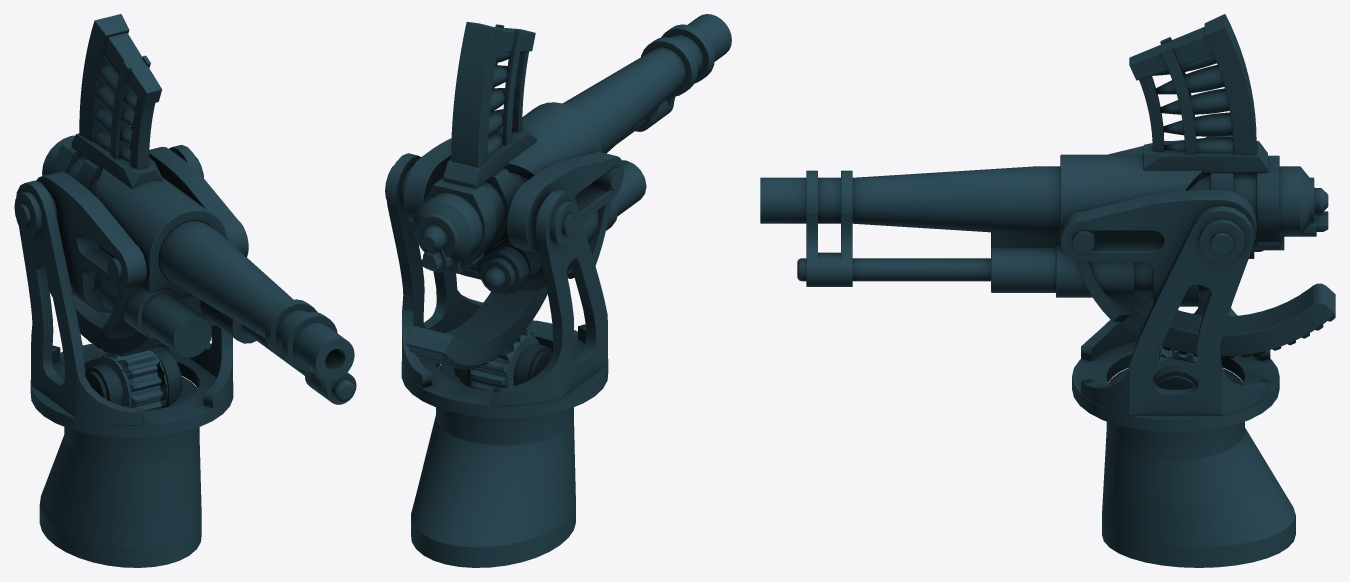
File: Cannon.glb
3 renders of one model, left to right at view 1: azimuth 30°, elevation 25°; view 2: azimuth 150°, elevation 25°; view 3: azimuth 270°, elevation 25°, orthographic. The views are drawn at different scales.
Parts seen in each view (by area): view 1: Base, baserotation, Carriage, magazine, Pipe, motor, breech; view 2: Base, baserotation, Carriage, magazine, Pipe, breech, motor; view 3: Carriage, Base, Pipe, baserotation, magazine, breech, motor.
Part boxes in pixels (x1,y1,x2,y2): Base: (39, 376, 201, 567); baserotation: (16, 145, 233, 437); Carriage: (14, 146, 256, 357); magazine: (71, 14, 226, 296); Pipe: (159, 220, 356, 404); motor: (98, 350, 167, 410); breech: (42, 135, 102, 195); Base: (411, 364, 575, 567); baserotation: (386, 153, 608, 418); Carriage: (385, 138, 646, 369); magazine: (443, 22, 621, 190); Pipe: (421, 14, 731, 270); breech: (413, 168, 528, 294); motor: (468, 330, 539, 390); Carriage: (991, 140, 1335, 358); Base: (1102, 368, 1295, 567); Pipe: (760, 166, 1328, 286); baserotation: (1072, 135, 1279, 432); magazine: (1060, 14, 1267, 253); breech: (1188, 155, 1328, 258); motor: (1153, 346, 1198, 376).
Size of the model in its own units: 0.9 by 2.46 by 2.49.
1 material, 1 textured.
